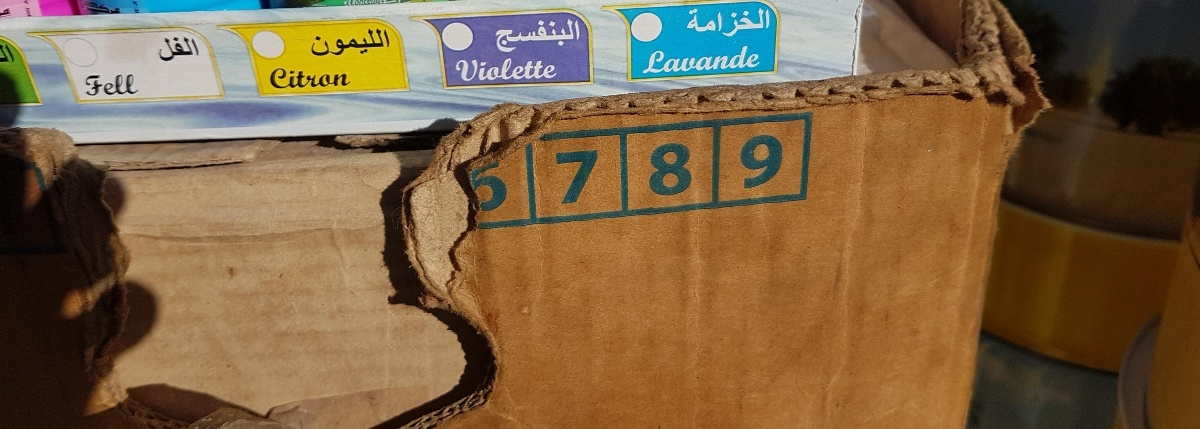text: (769, 129, 785, 191), (753, 129, 768, 191), (561, 149, 576, 206), (577, 149, 592, 206), (657, 141, 672, 198), (673, 141, 688, 198), (465, 160, 480, 213), (481, 160, 496, 213), (740, 129, 752, 191), (497, 160, 510, 213), (497, 15, 512, 55), (513, 15, 528, 55), (529, 15, 544, 55), (545, 15, 560, 55), (561, 15, 576, 55), (321, 26, 336, 58), (337, 26, 352, 58), (353, 26, 368, 58), (369, 26, 384, 58), (689, 8, 704, 39), (705, 8, 720, 39), (721, 8, 736, 39), (737, 8, 752, 39), (753, 8, 768, 39), (657, 45, 672, 75), (673, 45, 688, 75), (689, 45, 704, 75), (705, 45, 720, 75), (721, 45, 736, 75), (737, 45, 752, 75), (465, 56, 480, 85), (481, 56, 496, 85), (497, 56, 512, 85), (513, 56, 528, 85), (529, 56, 544, 85), (545, 56, 560, 85), (161, 36, 176, 64), (177, 36, 192, 64), (593, 149, 600, 206), (649, 141, 656, 198), (643, 45, 656, 75), (97, 73, 112, 97), (113, 73, 128, 97), (273, 66, 288, 90), (289, 66, 304, 90), (305, 66, 320, 90), (321, 66, 336, 90), (337, 66, 352, 90), (2, 39, 16, 64), (452, 56, 464, 85), (193, 36, 204, 64), (84, 73, 96, 97), (311, 26, 320, 58), (753, 45, 762, 75), (556, 149, 560, 206), (689, 141, 693, 198), (385, 26, 392, 58), (129, 73, 137, 97), (577, 15, 581, 55), (769, 8, 773, 39), (270, 66, 272, 90), (495, 15, 496, 55), (159, 36, 160, 64), (17, 39, 18, 64)
